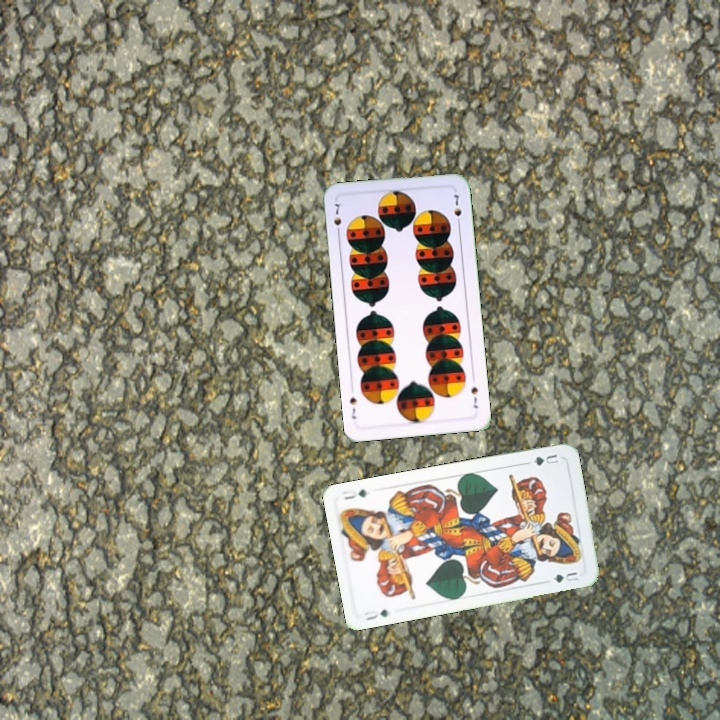GU: (523, 450, 562, 468), (360, 605, 391, 623)
S7: (330, 197, 344, 238), (467, 383, 480, 411)
